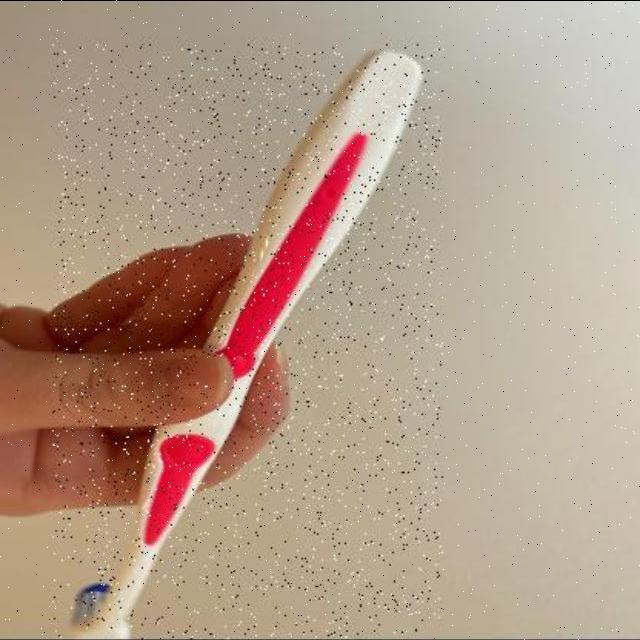toothbrush: (53, 45, 443, 640)
